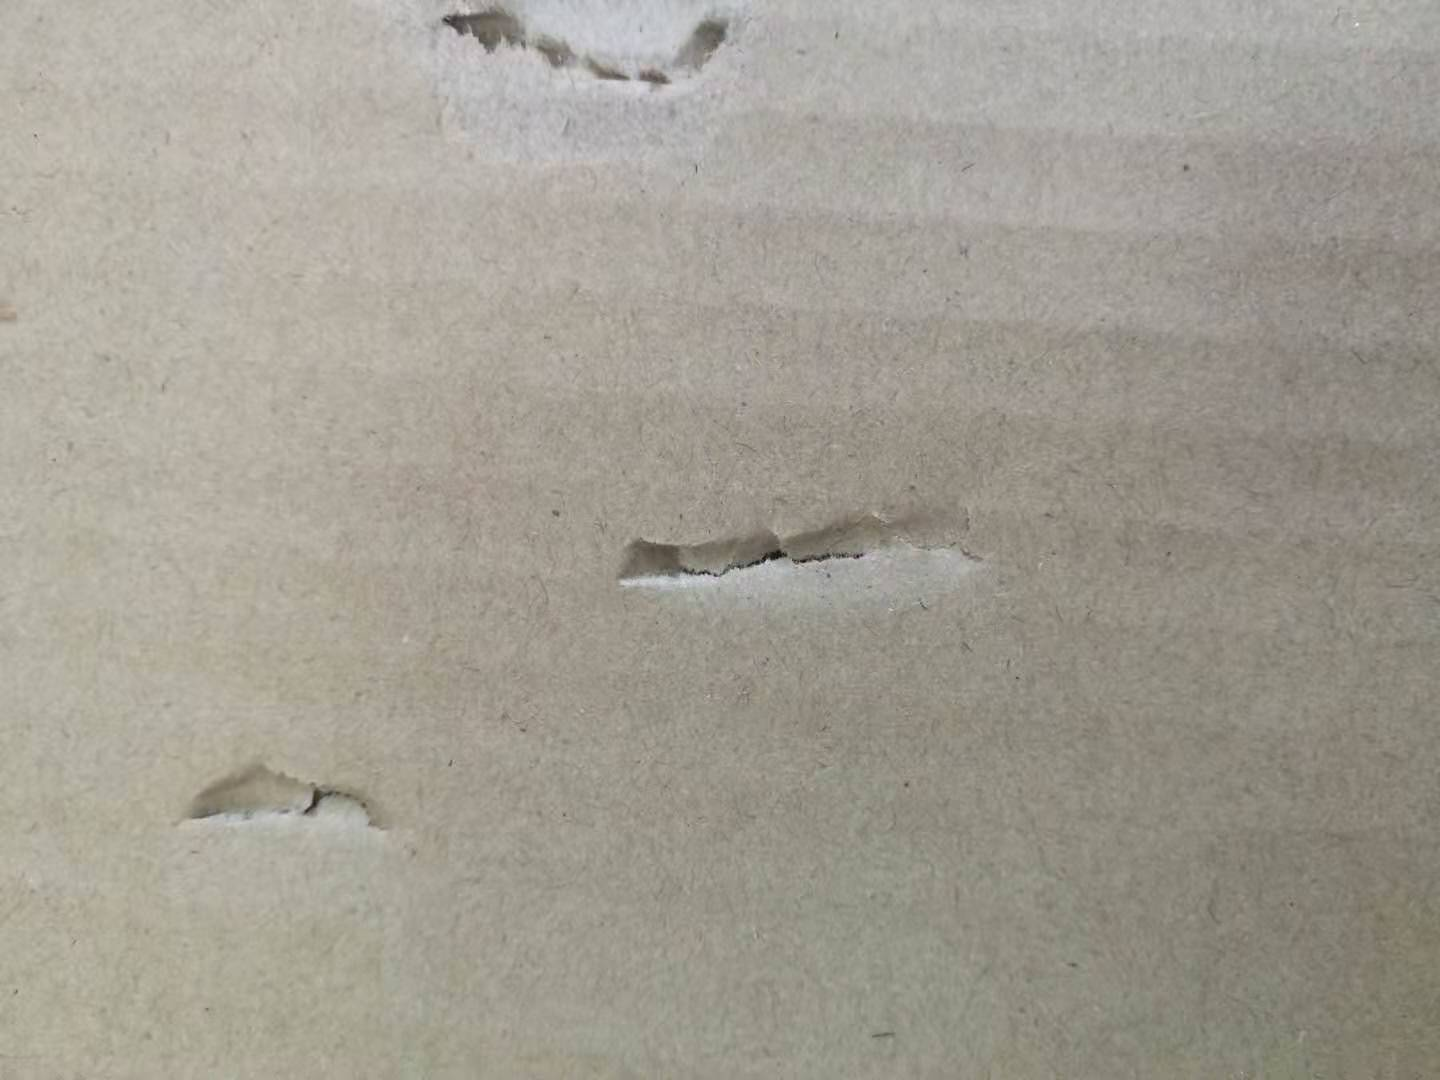defect: (363, 1, 801, 203), (593, 473, 1014, 640), (154, 734, 432, 885)
